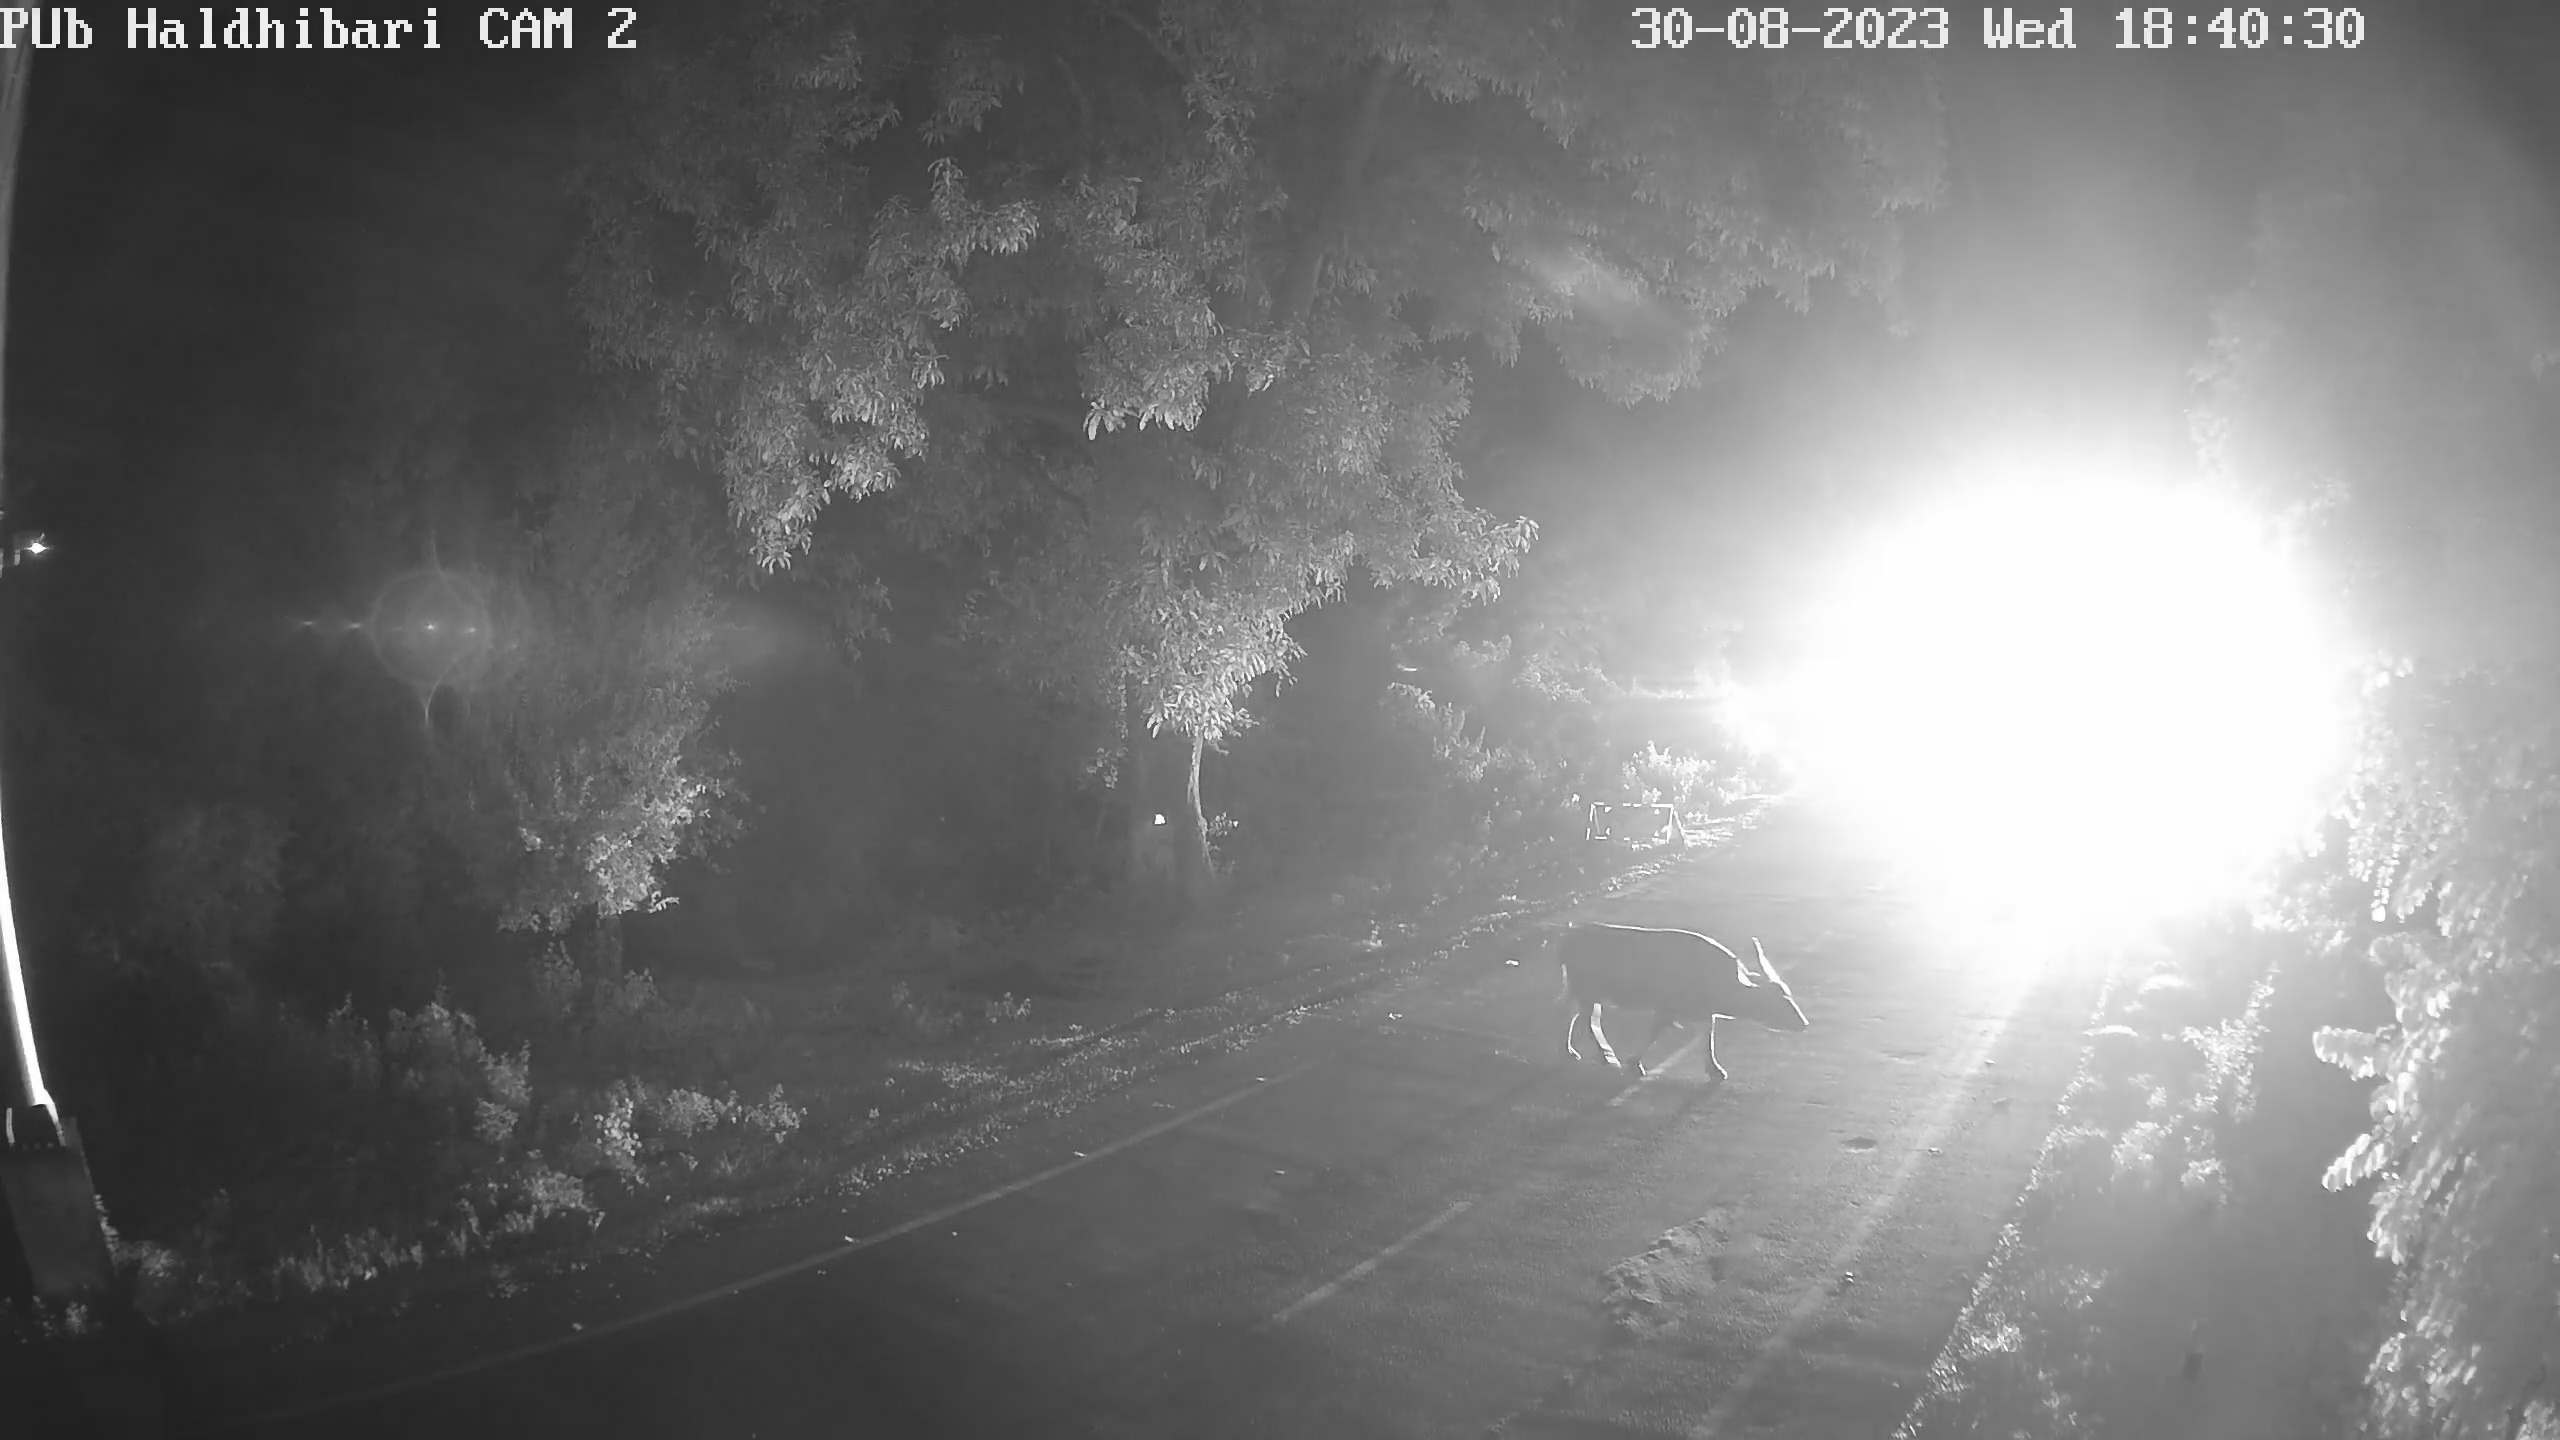buffaloes: (1486, 853, 1832, 1138)
